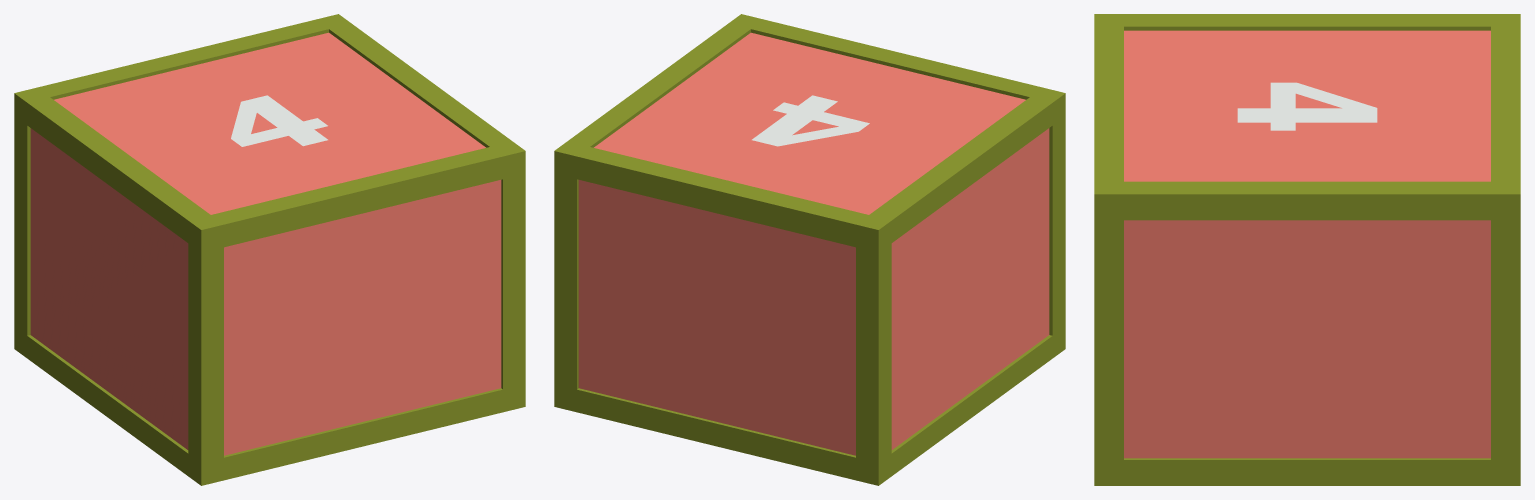
Rendered from 4Prefab.fbx.
3 renders of one model, left to right at view 1: azimuth 30°, elevation 25°; view 2: azimuth 150°, elevation 25°; view 3: azimuth 270°, elevation 25°, orthographic. The views are drawn at different scales.
Parts seen in each view (by area): view 1: Text.001; view 2: Text.001; view 3: Text.001.
Part boxes in pixels (x1,y1,x2,y2): Text.001: [14, 14, 525, 485]; Text.001: [554, 14, 1065, 485]; Text.001: [1094, 14, 1520, 485].
Bounding box in the file's own units: 194 × 146 × 194.
